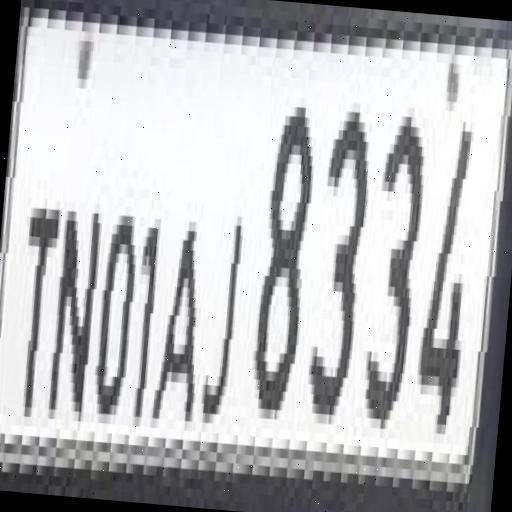number plate: (0, 0, 505, 512)
